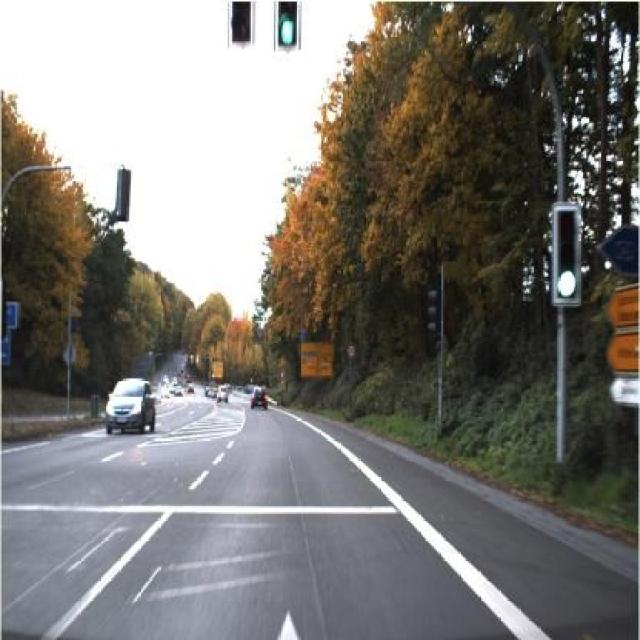forb_speed_over_50: (346, 342, 357, 362)
